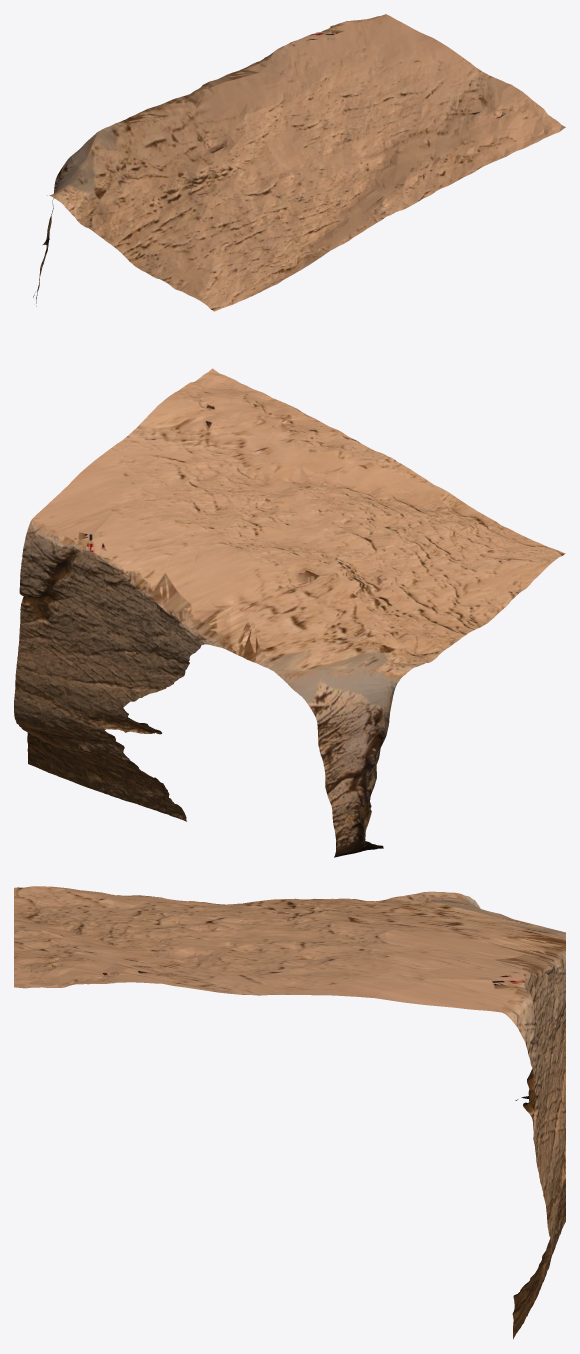
The picture shows the model from 3 angles, top to bottom: view 1: azimuth 30°, elevation 25°; view 2: azimuth 150°, elevation 25°; view 3: azimuth 270°, elevation 25°; orthographic projection. The views are drawn at different scales.
Size of the model in its own units: 2.09 by 1.49 by 2.09.
3 materials, 3 textured.
